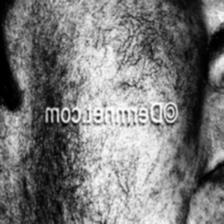Non-Cancerous Skin Condition: (7, 131, 224, 223), (16, 0, 224, 94)
